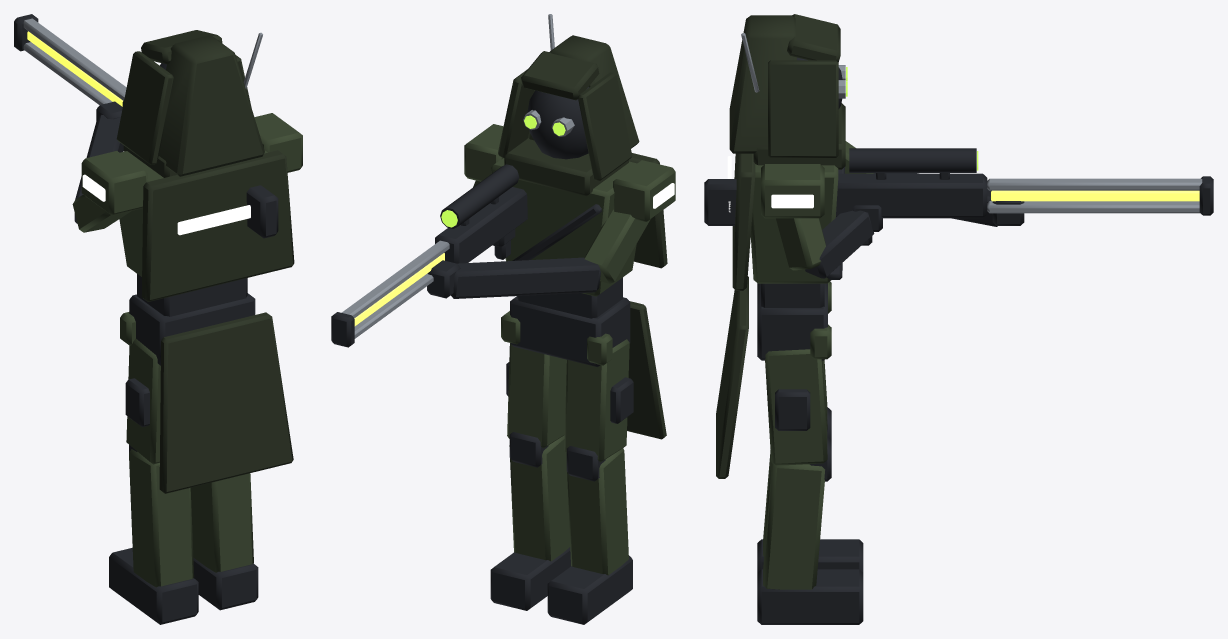
The model's file is hero_rook.glb.
The picture shows the model from 3 angles, left to right: view 1: azimuth 30°, elevation 25°; view 2: azimuth 150°, elevation 25°; view 3: azimuth 270°, elevation 25°; orthographic projection. The views are drawn at different scales.
Visible parts, largest first — view 1: hips, torso, head, legL, legR, armL, weapon, armR; view 2: legL, legR, head, torso, armL, weapon, hips, armR; view 3: weapon, legR, head, torso, armR, hips, legL, armL.
Part boxes in pixels (<box>): hips: <box>120,293,293,493</box>; torso: <box>119,145,294,316</box>; head: <box>116,30,264,176</box>; legL: <box>109,338,198,624</box>; legR: <box>190,473,258,610</box>; armL: <box>72,101,147,232</box>; weapon: <box>14,14,278,238</box>; armR: <box>254,113,302,172</box>; legL: <box>547,339,633,624</box>; legR: <box>490,343,570,610</box>; head: <box>498,14,639,180</box>; torso: <box>491,138,667,318</box>; armL: <box>427,160,675,298</box>; weapon: <box>331,164,527,347</box>; hips: <box>501,296,666,439</box>; armR: <box>464,124,515,247</box>; weapon: <box>704,148,1213,245</box>; legR: <box>757,349,863,624</box>; head: <box>729,14,847,157</box>; torso: <box>727,103,845,307</box>; armR: <box>761,164,882,278</box>; hips: <box>716,276,831,478</box>; legL: <box>757,360,863,572</box>; armL: <box>845,141,1024,226</box>.
Bounding box in the file's own units: 0.6777 × 1.84 × 1.44.
